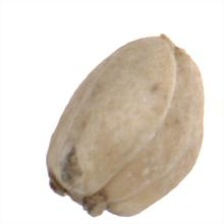L1: (47, 173, 121, 217), (146, 32, 199, 68)
L2: (46, 31, 204, 217)
